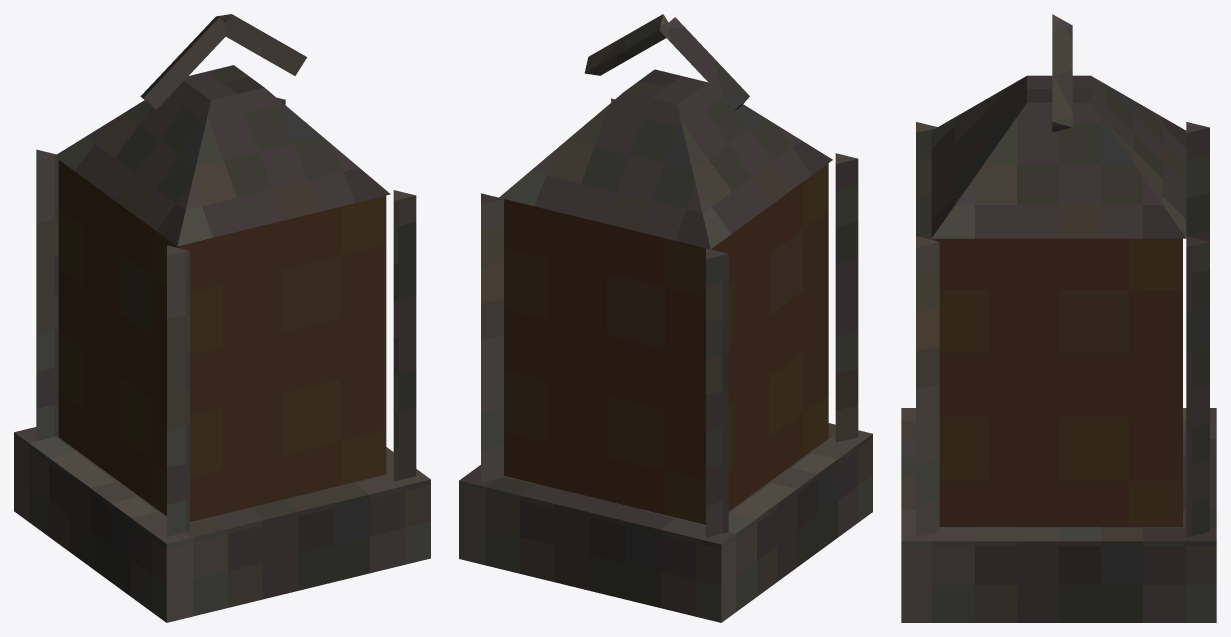
File: farol_mano.obj
3 renders of one model, left to right at view 1: azimuth 30°, elevation 25°; view 2: azimuth 150°, elevation 25°; view 3: azimuth 270°, elevation 25°, orthographic. The views are drawn at different scales.
Parts seen in each view (by area): view 1: farol_mano; view 2: farol_mano; view 3: farol_mano.
Boxes of the visible parts, x1,y1,x2,y2 form: farol_mano: [14, 14, 430, 622]; farol_mano: [459, 14, 872, 622]; farol_mano: [901, 14, 1216, 622].
Bounding box in the file's own units: 0.14 × 0.2641 × 0.14.
2 materials, 2 textured.
